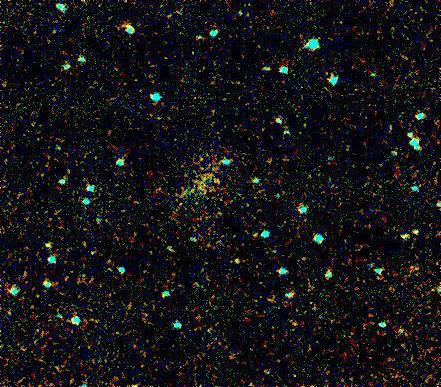star: (202, 167, 232, 197)
